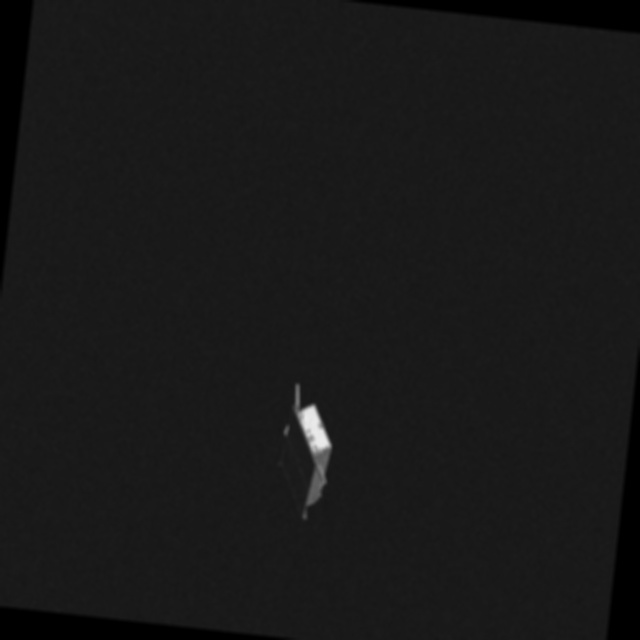satellite: (257, 381, 348, 531)
